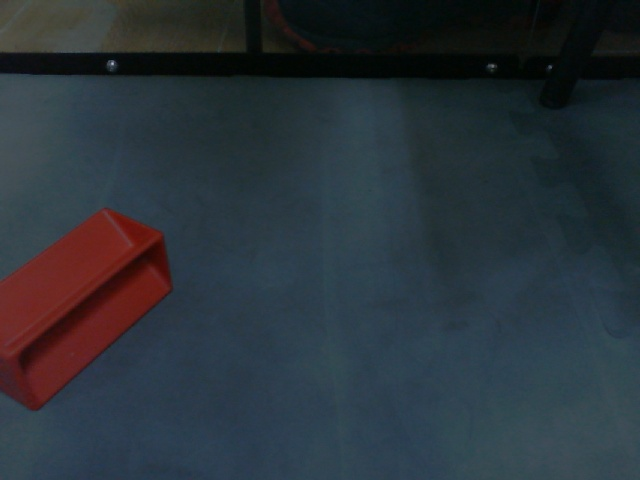RedSample: (1, 204, 176, 417)
